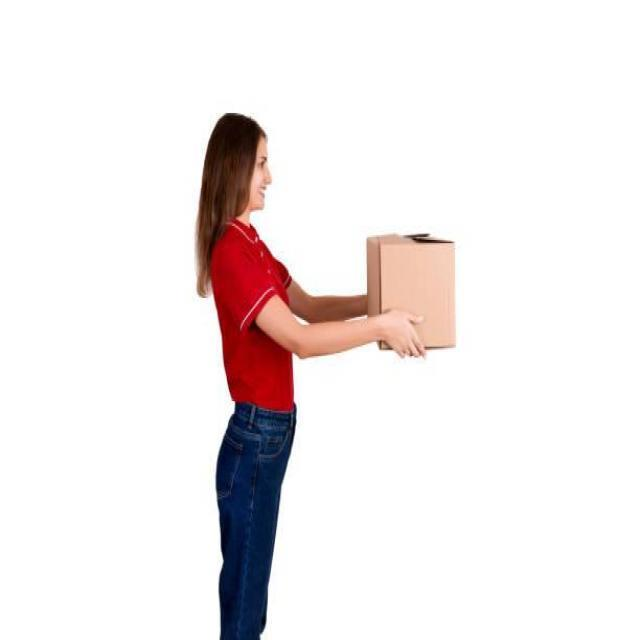box: (360, 224, 457, 360)
